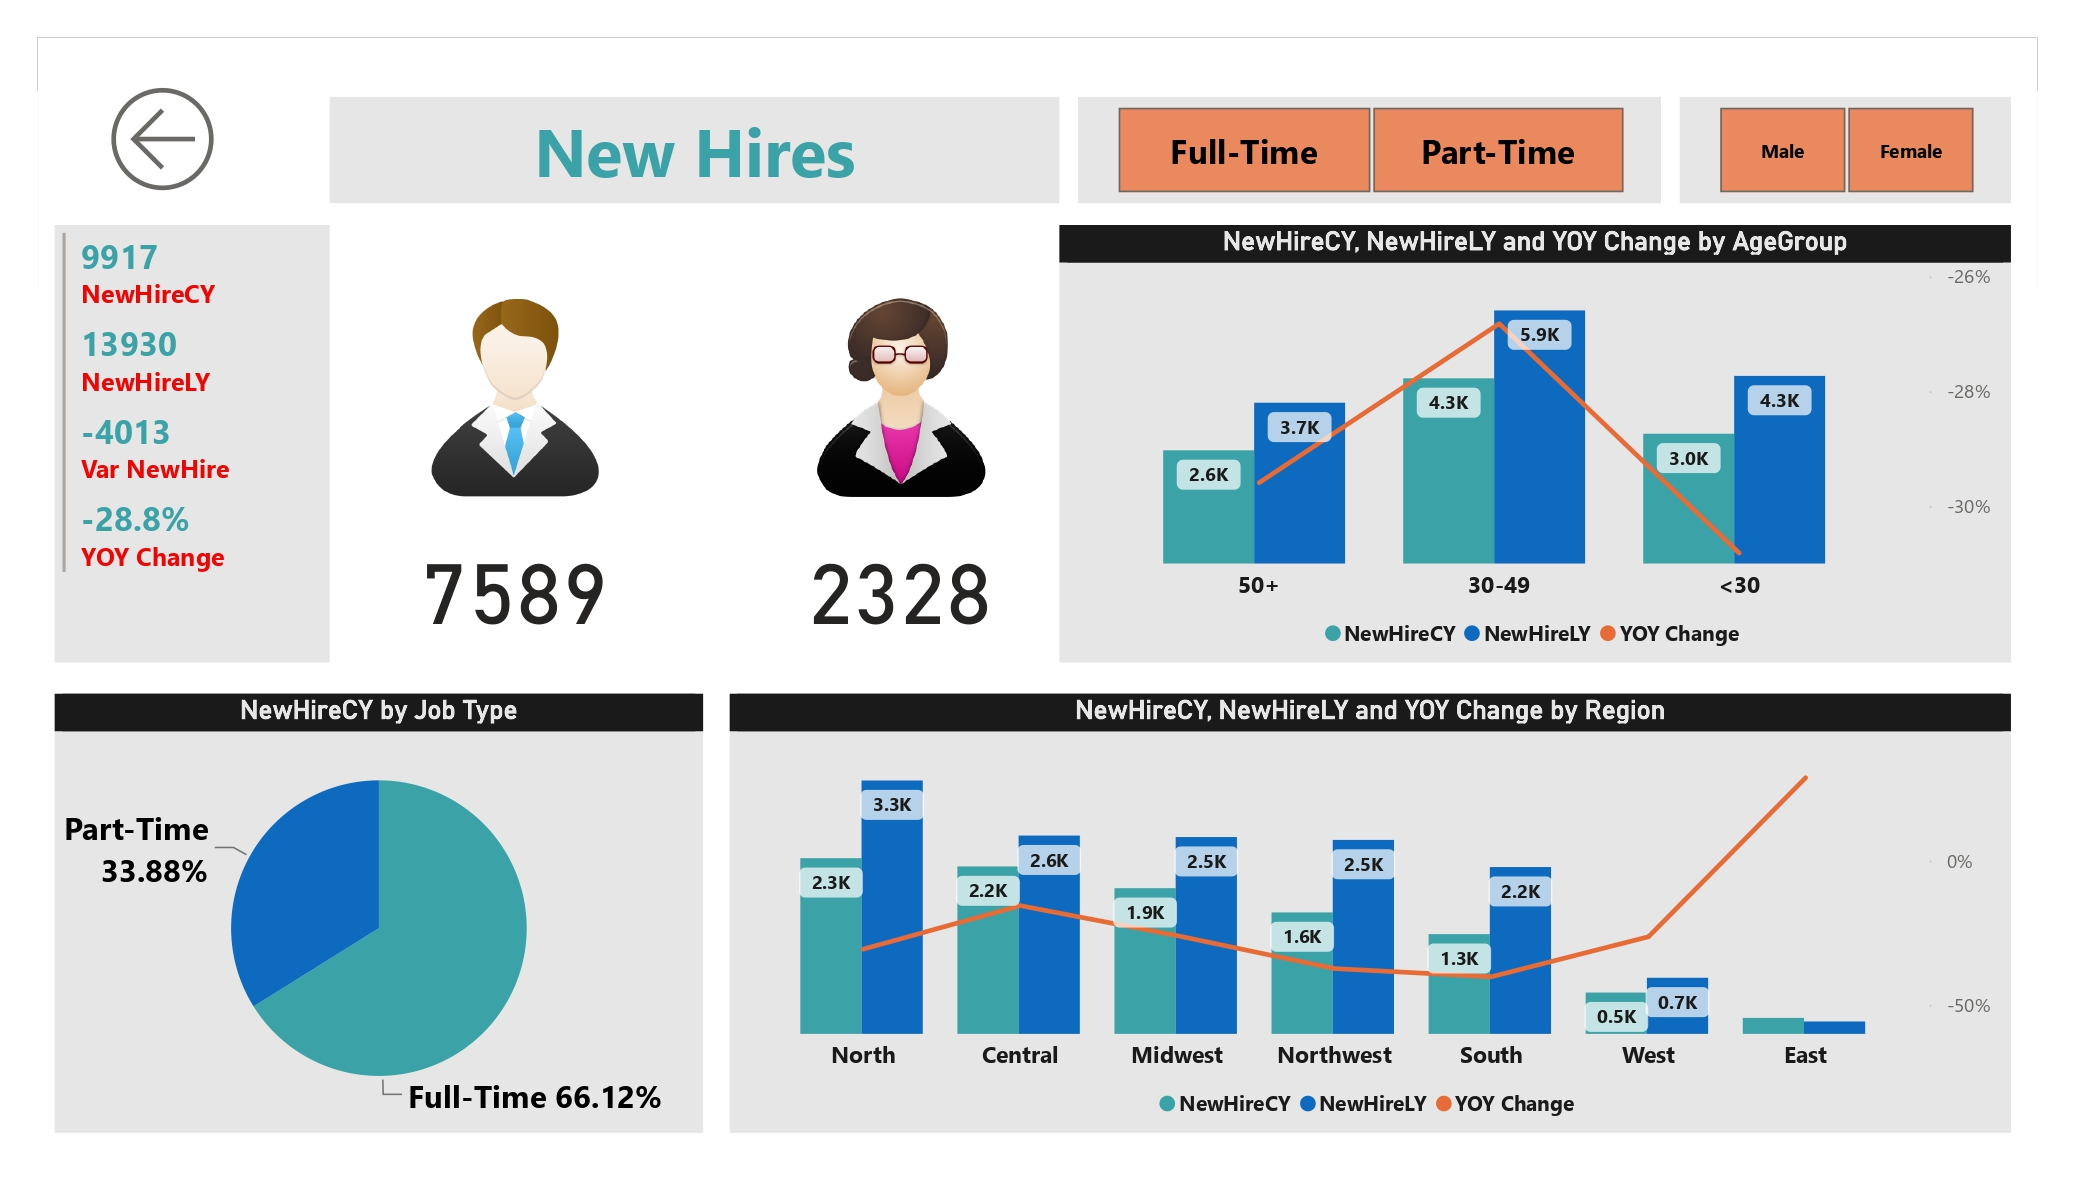

This screenshot's page, from the dashboard's own definition file:
{"tool":"powerbi","page":{"name":"New Hires","canvas":[1280,720],"ordinal":1},"visuals":[{"type":"multiRowCard","fields":{"Values":["All_Measures.NewHireCY","All_Measures.NewHireLY","All_Measures.Var NewHire","All_Measures.YOY Change"]},"box":[10.6,119.8,175.9,280.6],"z":0},{"type":"image","box":[216.9,162.3,175.9,136.5],"z":1000},{"type":"image","box":[464.1,162.3,175.9,136.5],"z":2000},{"type":"card","fields":{"Values":["All_Measures.NewHireCY"]},"box":[216.9,298.8,175.9,101.6],"z":3000},{"type":"card","fields":{"Values":["All_Measures.NewHireCY"]},"box":[464.1,298.8,175.9,101.6],"z":4000},{"type":"textbox","box":[186.5,37.9,467.1,68.2],"z":5000},{"type":"actionButton","box":[39.4,24.3,88,81.9],"z":6000},{"type":"lineClusteredColumnComboChart","fields":{"Y":["All_Measures.NewHireCY","All_Measures.NewHireLY"],"Category":["AgeGroup.AgeGroup"],"Y2":["All_Measures.YOY Change"]},"box":[653.6,119.8,609.7,280.6],"z":7000},{"type":"pieChart","title":"NewHireCY by Job Type","fields":{"Y":["All_Measures.NewHireCY"],"Category":["JobType.FPDesc"]},"box":[10.6,420.1,415.5,280.6],"z":8000},{"type":"lineClusteredColumnComboChart","fields":{"Y":["All_Measures.NewHireCY","All_Measures.NewHireLY"],"Y2":["All_Measures.YOY Change"],"Category":["RegionMapping.Region"]},"box":[442.8,420.1,820.5,280.6],"z":9000},{"type":"slicer","fields":{"Values":["JobType.FPDesc"]},"box":[665.8,37.9,373.1,68.2],"z":10000},{"type":"slicer","fields":{"Values":["Gender.Gender"]},"box":[1051,37.9,212.3,68.2],"z":11000}]}

Visuals, with their boxes on the page's 1280x720 design canvas (x1, y1, x2, y2). These are canvas units, not pixel positions in the 2075x1200 screenshot, which may show the page scaled, cropped or inside an application window:
multiRowCard - All_Measures.NewHireCY x All_Measures.NewHireLY: box(11, 120, 186, 400)
image: box(217, 162, 393, 299)
image: box(464, 162, 640, 299)
card - All_Measures.NewHireCY: box(217, 299, 393, 400)
card - All_Measures.NewHireCY: box(464, 299, 640, 400)
textbox: box(186, 38, 654, 106)
actionButton: box(39, 24, 127, 106)
lineClusteredColumnComboChart - All_Measures.NewHireCY x All_Measures.NewHireLY: box(654, 120, 1263, 400)
"NewHireCY by Job Type" pieChart: box(11, 420, 426, 701)
lineClusteredColumnComboChart - All_Measures.NewHireCY x All_Measures.NewHireLY: box(443, 420, 1263, 701)
slicer - JobType.FPDesc: box(666, 38, 1039, 106)
slicer - Gender.Gender: box(1051, 38, 1263, 106)
